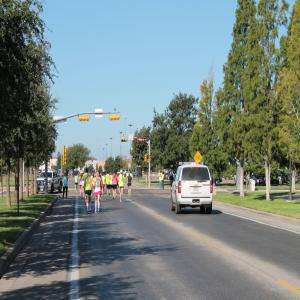Vehicle-registration-plate: (193, 189, 200, 193)
